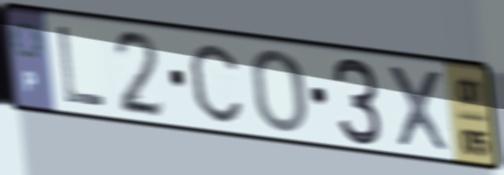2: (112, 28, 167, 122)
3: (327, 52, 382, 148)
C: (186, 41, 246, 127)
L: (54, 22, 110, 111)
O: (248, 46, 310, 136)
X: (384, 60, 454, 157)
